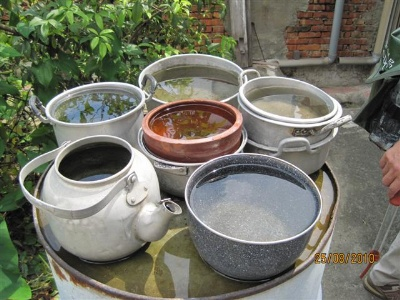bowl: (18, 134, 183, 264), (183, 155, 323, 282), (238, 76, 338, 146), (138, 51, 251, 111), (45, 82, 144, 146), (141, 99, 243, 161)
